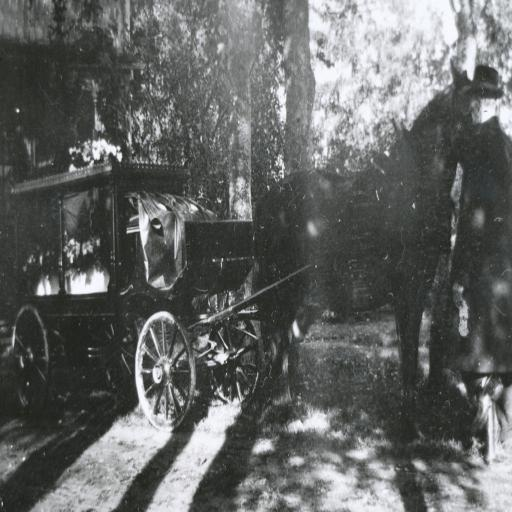Horse: (255, 61, 480, 440)
